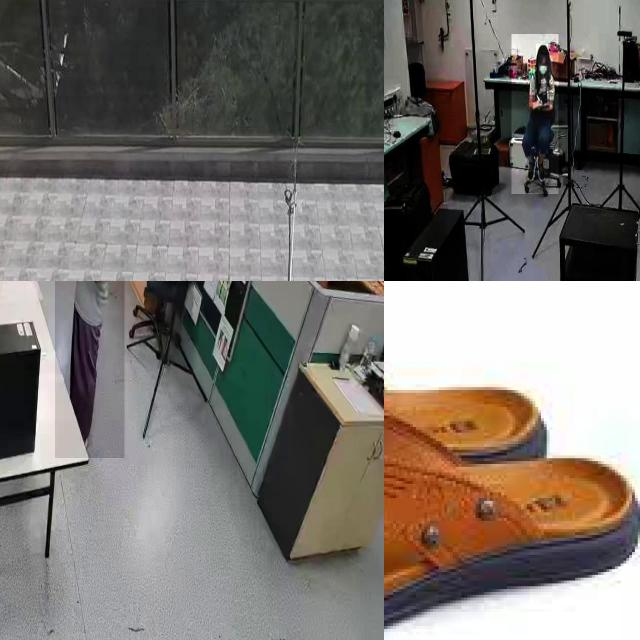Harness: (285, 184, 296, 281)
Sandals: (384, 282, 640, 640)
face_mask: (538, 55, 552, 84)
hand_noglove: (533, 97, 542, 109)
head_nohelmet: (536, 44, 549, 56)
person: (55, 281, 125, 459), (511, 34, 559, 195)
shoes: (524, 154, 538, 186), (535, 157, 549, 187)
